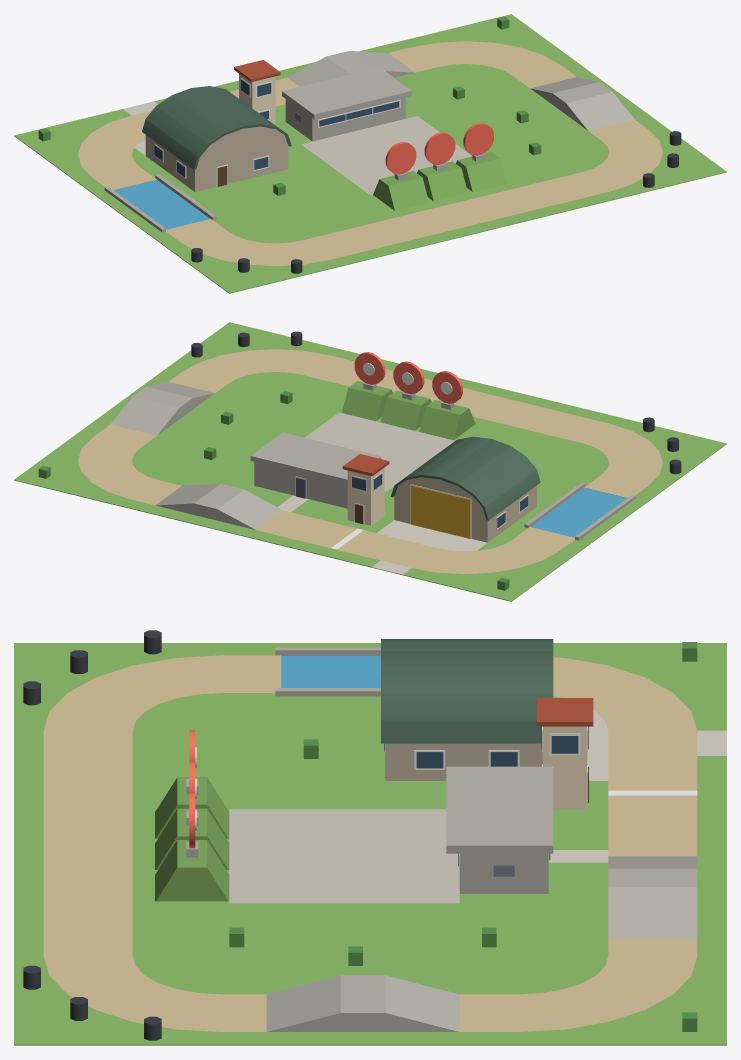
The model's file is provingground.glb.
The picture shows the model from 3 angles, top to bottom: view 1: azimuth 30°, elevation 25°; view 2: azimuth 150°, elevation 25°; view 3: azimuth 270°, elevation 25°; orthographic projection. The views are drawn at different scales.
Visible parts, largest first — view 1: lawn (×2), track, roof (×2), ramp (×2), range_floor, earth_bank (×3), bunker_roof, hangar, target (×3), splash_pool, observation_bunker, hangar_gable (+2 smaller); view 2: lawn (×2), track, ramp (×2), roof (×2), range_floor, earth_bank (×3), bunker_roof, garage_door, splash_pool, observation_bunker, target (×3), hangar (+4 smaller); view 3: lawn (×2), track, range_floor, roof (×2), ramp (×2), bunker_roof, earth_bank (×3), hangar, observation_bunker, splash_pool, timing_tower, apron (×2) (+2 smaller).
Boxes of the visible parts, x1,y1,x2,y2 form: lawn (×2): [14, 14, 726, 293]; track: [78, 41, 662, 266]; roof (×2): [142, 60, 291, 169]; ramp (×2): [287, 51, 634, 130]; range_floor: [301, 116, 472, 195]; earth_bank (×3): [373, 152, 506, 210]; bunker_roof: [282, 67, 411, 119]; hangar: [145, 135, 288, 191]; target (×3): [385, 122, 493, 174]; splash_pool: [114, 180, 209, 229]; observation_bunker: [285, 97, 405, 141]; hangar_gable: [197, 126, 287, 167]; lawn (×2): [14, 322, 726, 601]; track: [78, 349, 662, 574]; ramp (×2): [110, 381, 282, 529]; roof (×2): [342, 436, 540, 520]; range_floor: [305, 412, 455, 491]; earth_bank (×3): [342, 381, 475, 440]; bunker_roof: [250, 432, 380, 484]; garage_door: [411, 485, 470, 538]; splash_pool: [531, 488, 626, 537]; observation_bunker: [254, 462, 347, 508]; target (×3): [354, 352, 462, 403]; hangar: [394, 485, 536, 542]; lawn (×2): [14, 643, 726, 1045]; track: [43, 655, 697, 1031]; range_floor: [229, 809, 459, 903]; roof (×2): [381, 639, 593, 743]; ramp (×2): [266, 856, 697, 1031]; bunker_roof: [446, 766, 553, 853]; earth_bank (×3): [155, 777, 229, 901]; hangar: [385, 743, 542, 780]; observation_bunker: [459, 853, 548, 893]; splash_pool: [281, 655, 380, 687]; timing_tower: [542, 726, 587, 809]; apron (×2): [587, 710, 726, 780].
Bounding box in the file's own units: 64 × 6.93 × 48.
